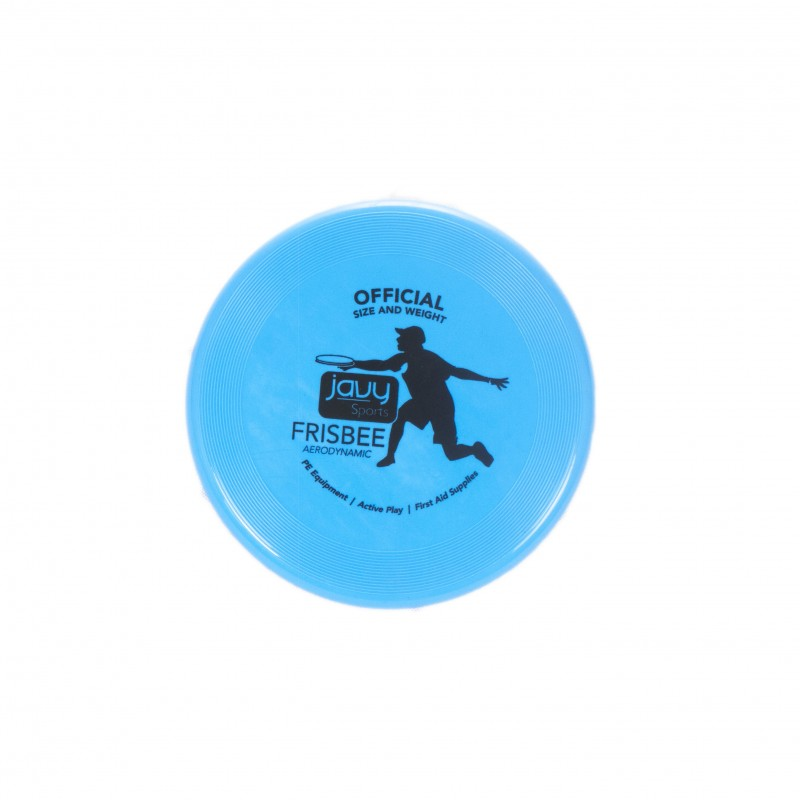disc: (178, 197, 603, 610)
